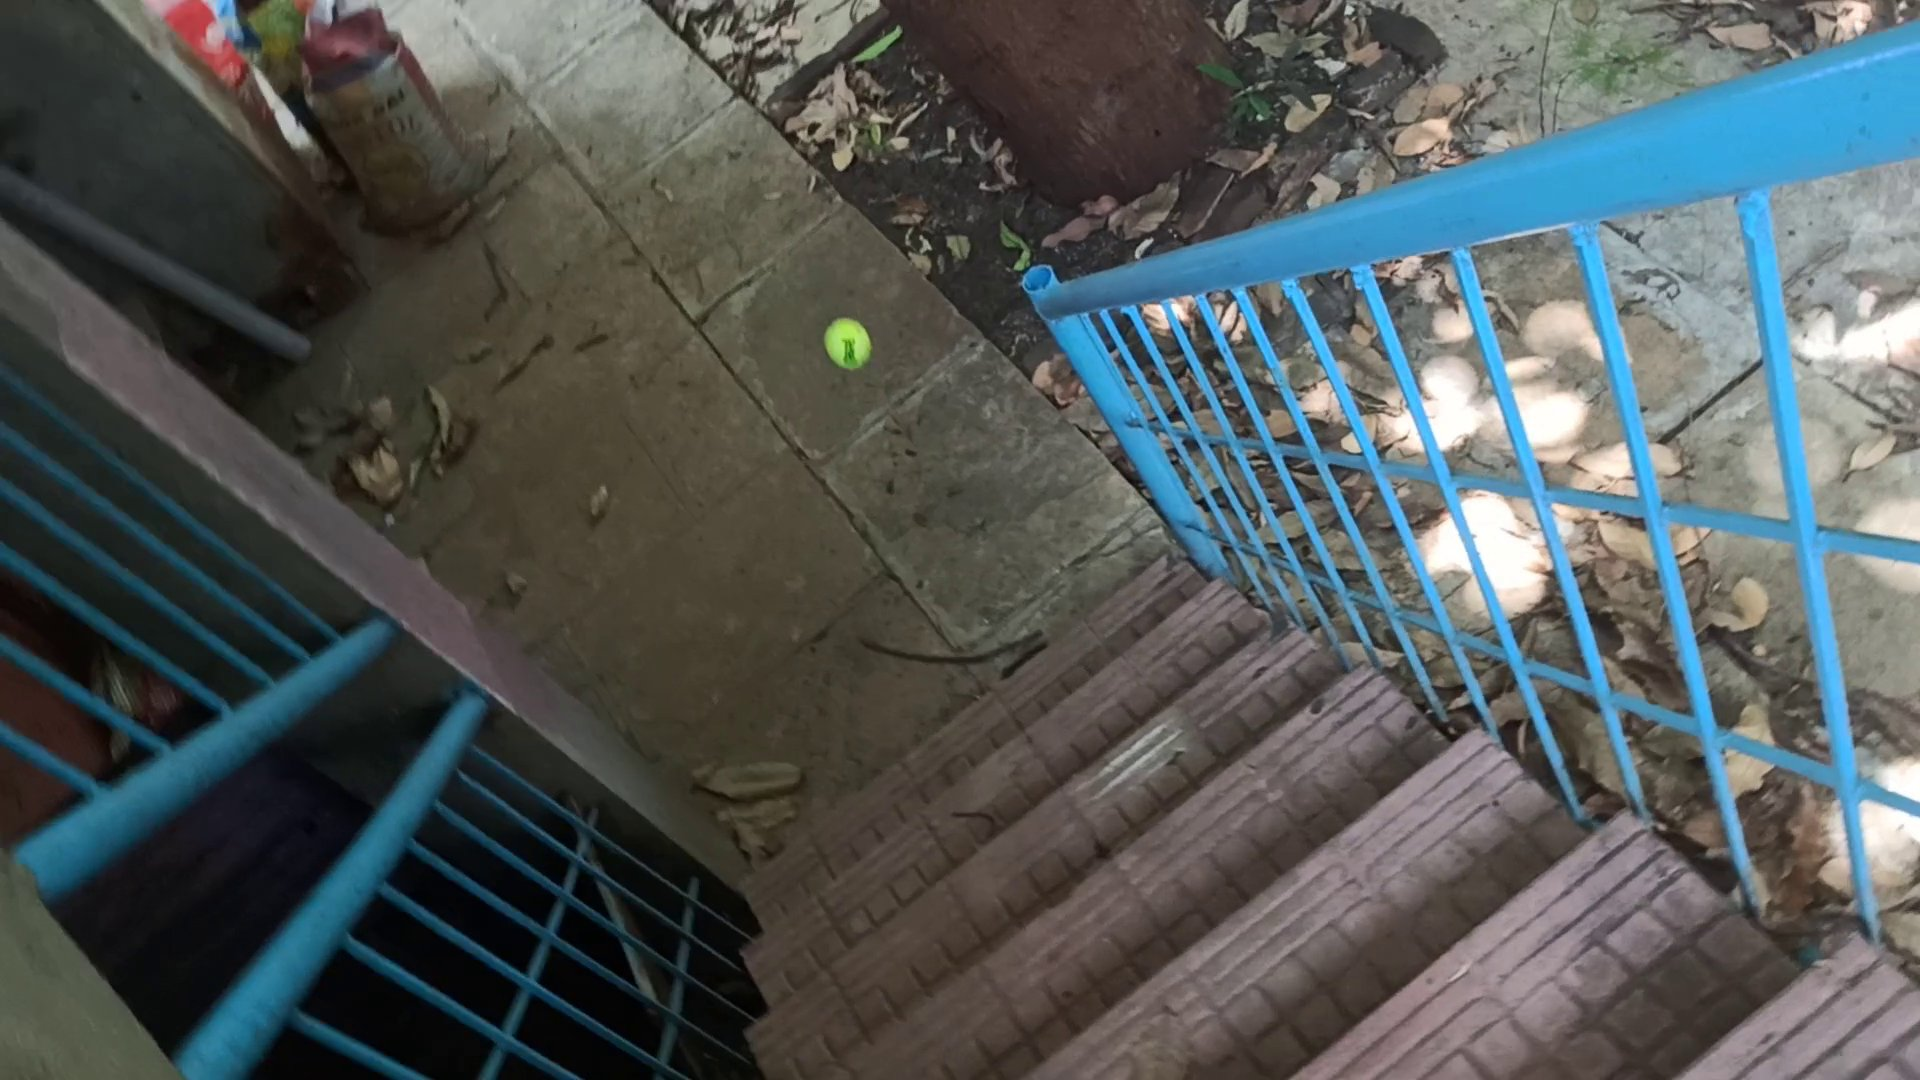Tennis-Ball: (824, 318, 872, 371)
